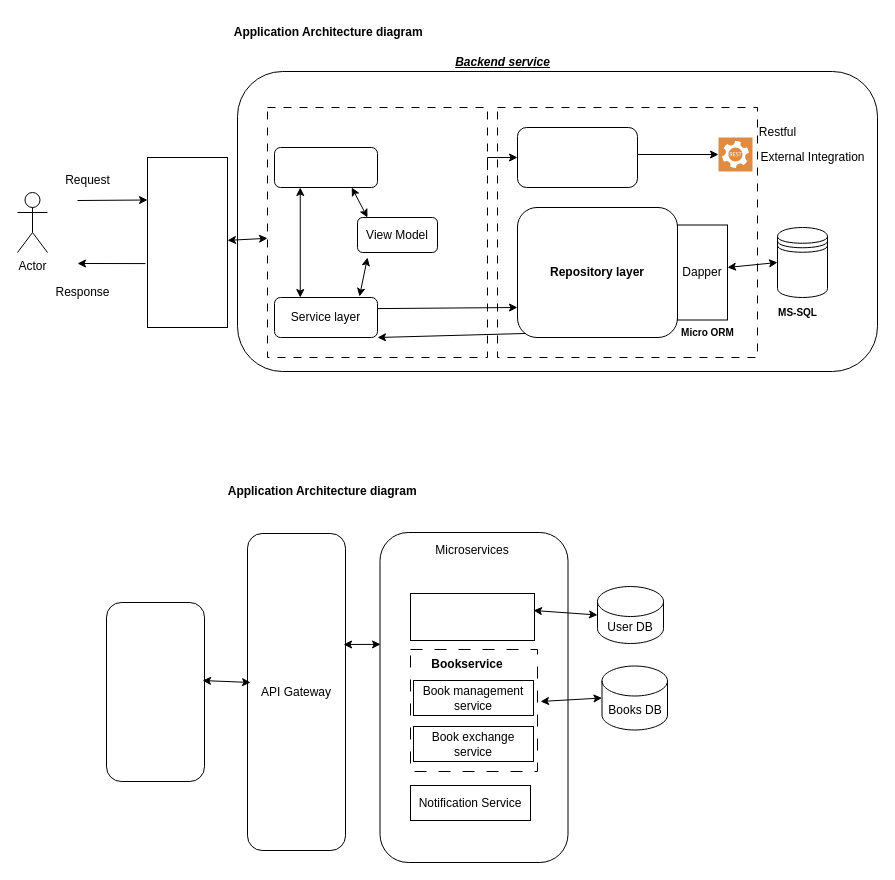
The diagram is 895 pixels wide and 880 high, and some of its shapes have lost their labels. Each missing label, with the box of its shape:
Api layer: (274, 146, 378, 188)
DataBase: (776, 226, 828, 298)
Frontend Web Application: (146, 156, 228, 328)
Integration services: (516, 126, 638, 188)
User service: (410, 592, 534, 640)
Webapplication frontend: (106, 602, 204, 782)
